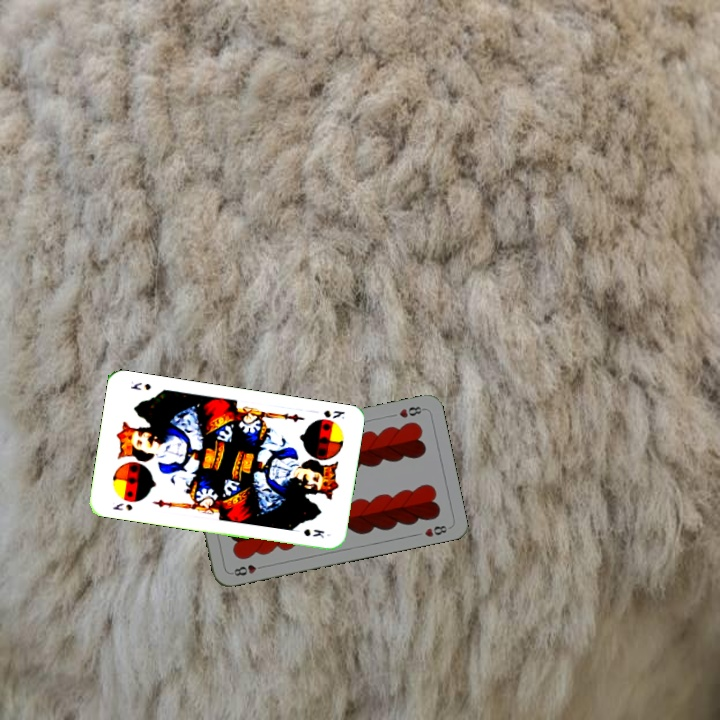H8: (227, 560, 267, 579), (395, 402, 427, 421)
SK: (320, 406, 347, 422), (109, 499, 135, 513)
